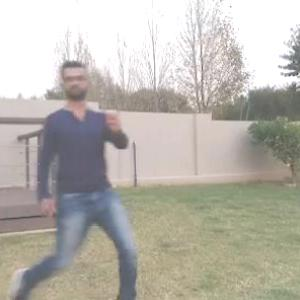takeoff-hand: (99, 98, 127, 131)
